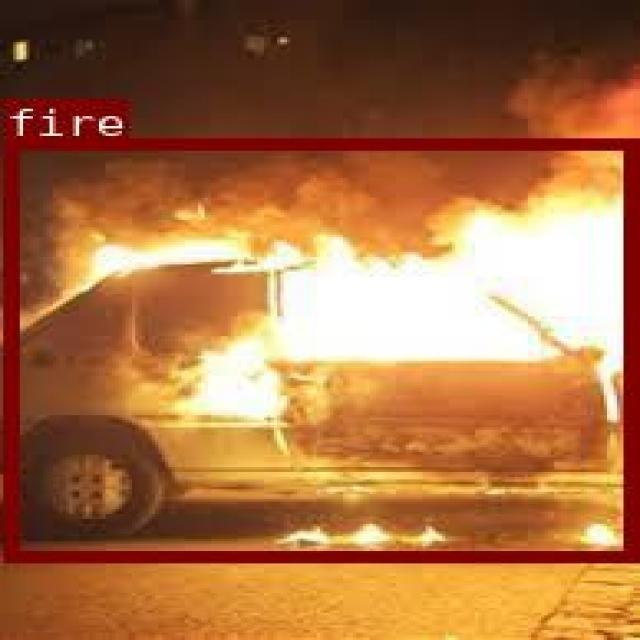fire: (3, 138, 634, 559)
